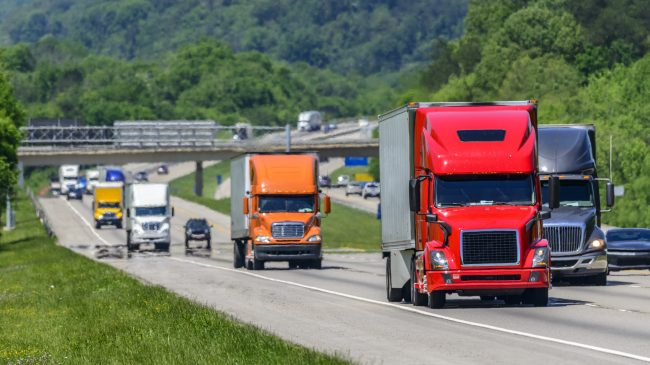Car: (182, 217, 215, 252)
Truck: (370, 110, 551, 301), (224, 156, 333, 271), (124, 185, 174, 256), (92, 183, 122, 233)
